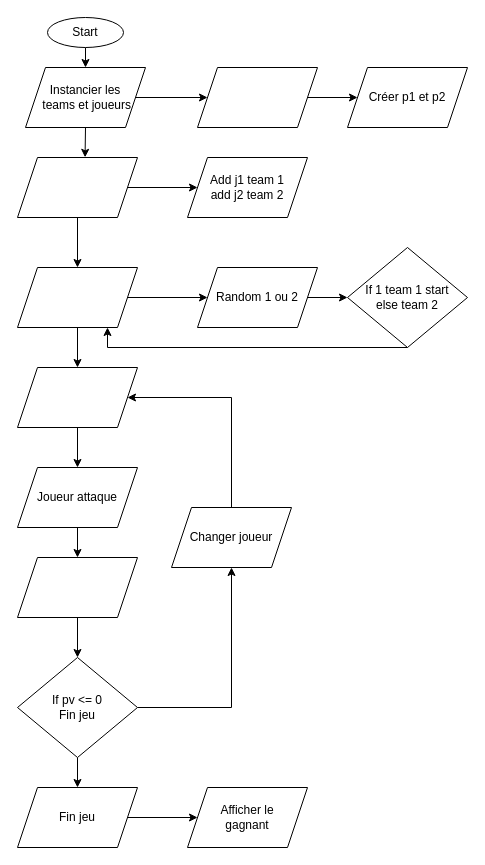
Some shapes in this 485 by 865 pixel diagram are drawn without their labels. The shapes that lost their labels are listed below. From the top down, each one's box as (x1, y1, x2, y2) in pixels, then its label:
(196, 66, 318, 128): Créer team 1 et 2
(16, 156, 138, 218): Ajouter les joueurs
(16, 266, 138, 328): Choisir qui joue en premier
(16, 366, 138, 428): Lancer jeu
(16, 556, 138, 618): PV - ATK
